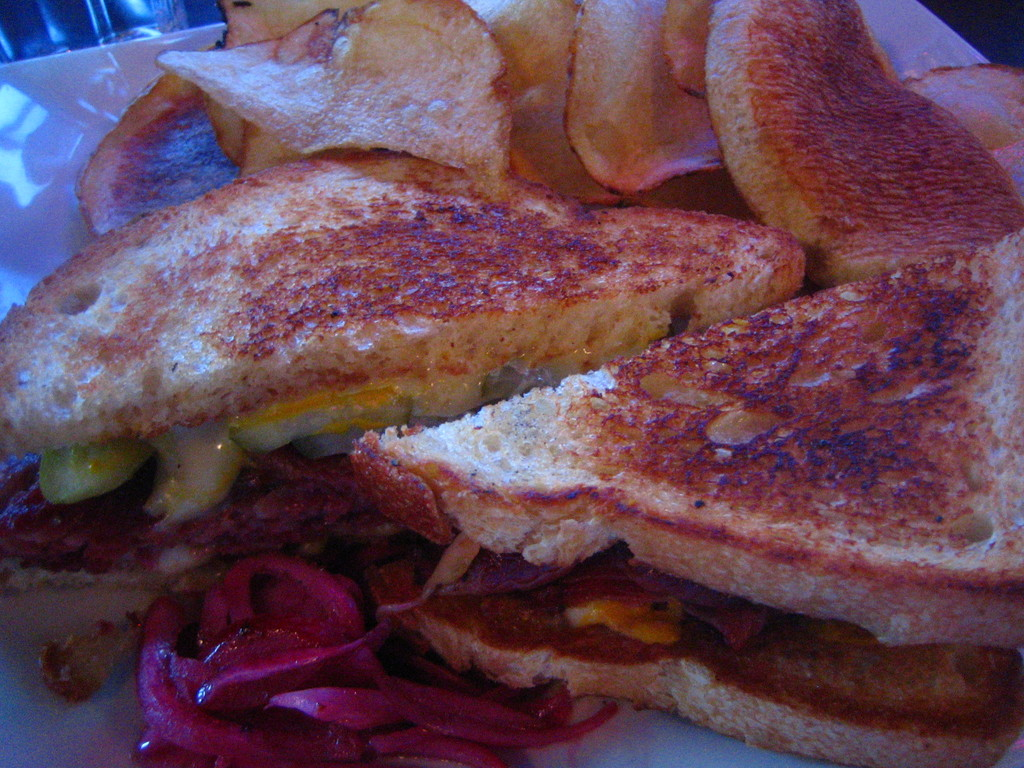sandwich: (0, 146, 804, 689), (349, 228, 1023, 767)
